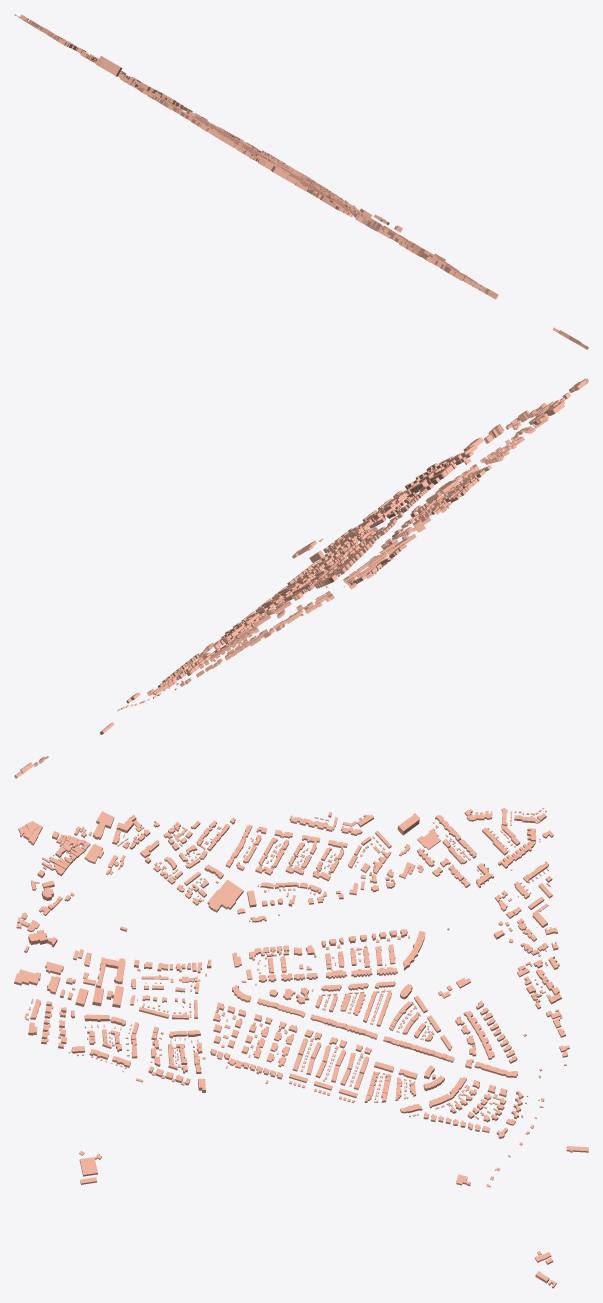
3 renders of one model, top to bottom at view 1: azimuth 30°, elevation 25°; view 2: azimuth 150°, elevation 25°; view 3: azimuth 270°, elevation 25°, orthographic. The views are drawn at different scales.
Size of the model in its own units: 955 by 760 by 1278.
